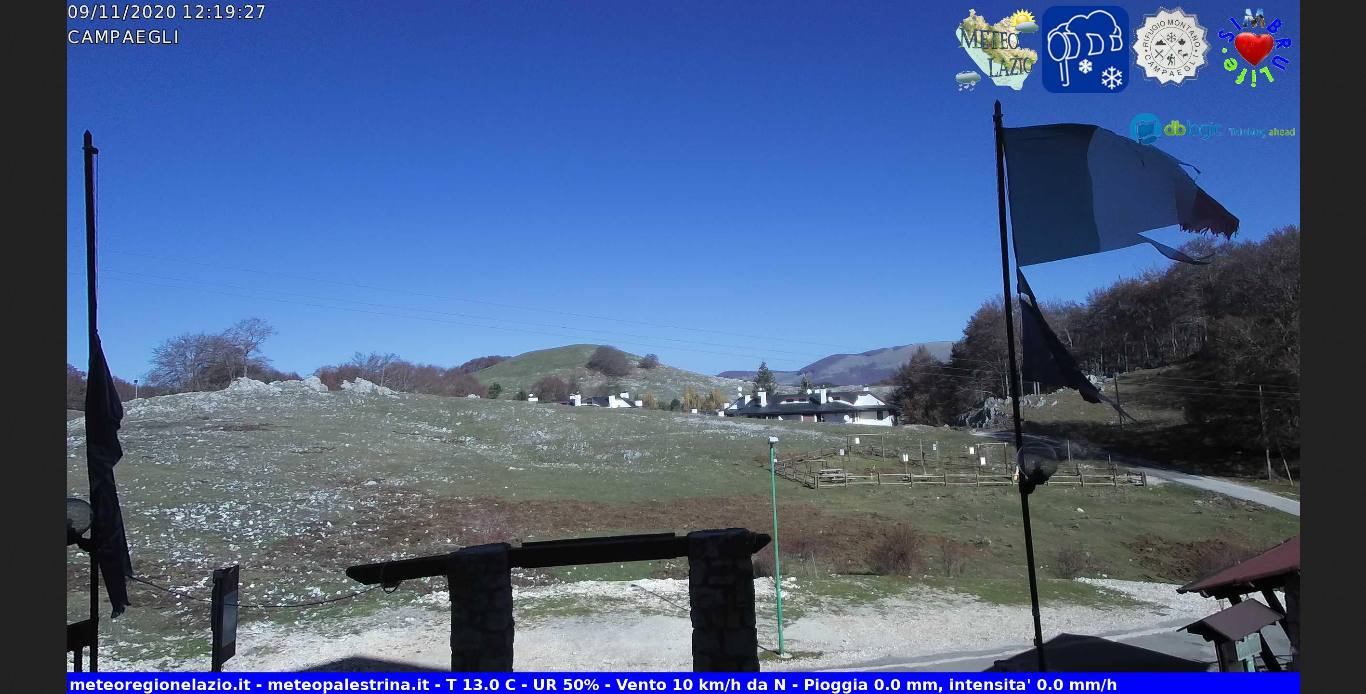maybe: (1000, 294, 1125, 422)
yes: (990, 99, 1261, 279)
